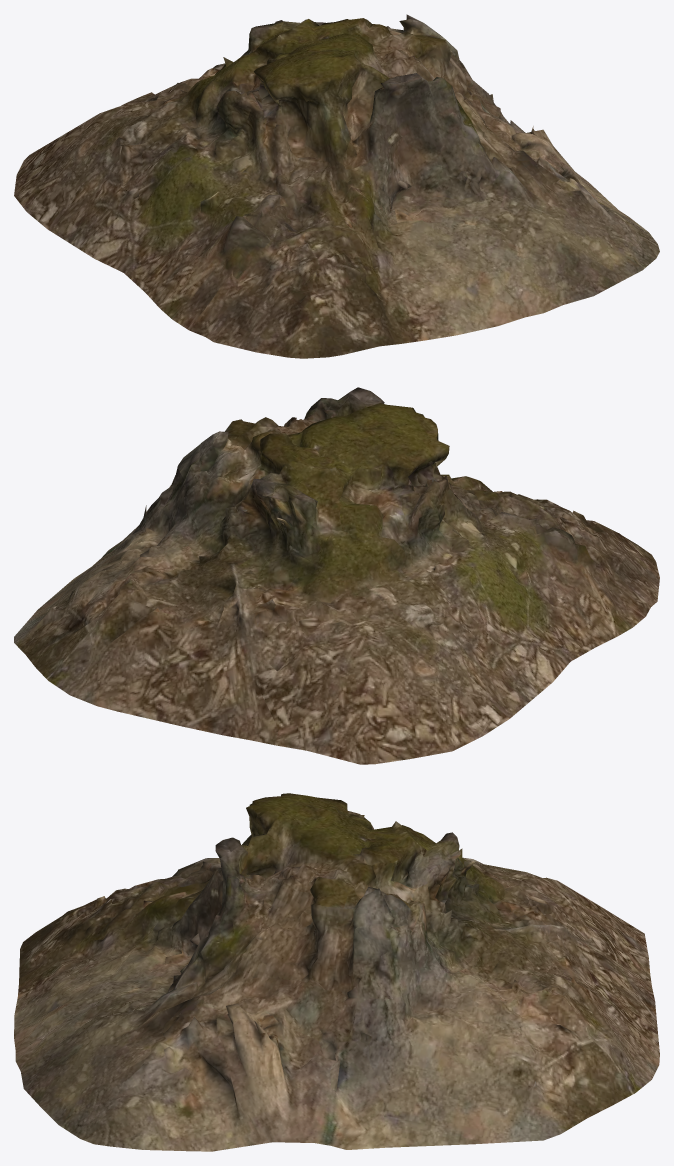
Rendered from tree_stump_01.glb.
3 views of the same model, one above another, from view 1: azimuth 30°, elevation 25°; view 2: azimuth 150°, elevation 25°; view 3: azimuth 270°, elevation 25° (orthographic). The views are drawn at different scales.
Parts seen in each view (by area): view 1: tree_stump_01; view 2: tree_stump_01; view 3: tree_stump_01.
Boxes of the visible parts, left/top/right/bottom form: tree_stump_01: left=14, top=14, right=659, bottom=358; tree_stump_01: left=14, top=387, right=659, bottom=764; tree_stump_01: left=14, top=793, right=659, bottom=1151.
Bounding box in the file's own units: 1.43 × 0.571 × 1.59.
1 material, 1 textured.
